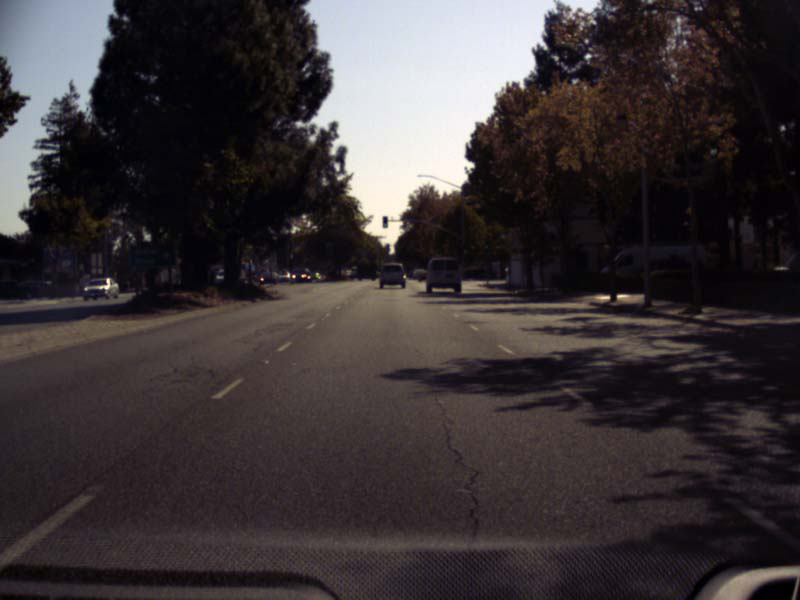Green: (382, 215, 388, 229), (483, 238, 489, 250)
